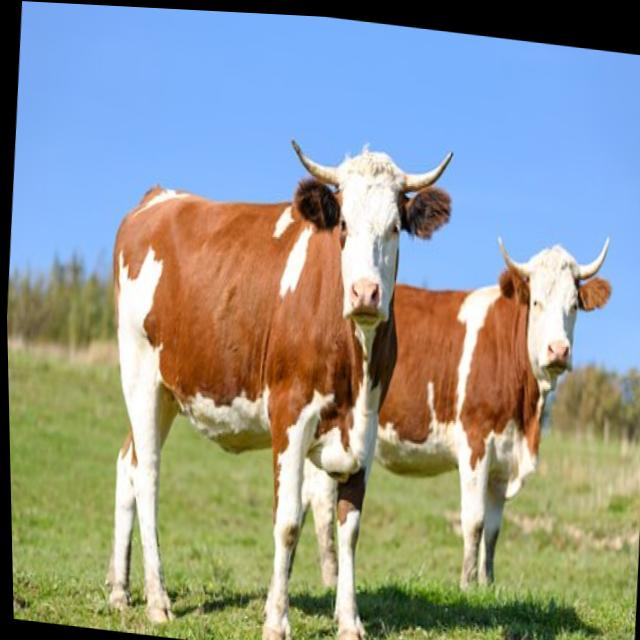cowFace: (274, 120, 463, 336), (481, 211, 620, 386)
